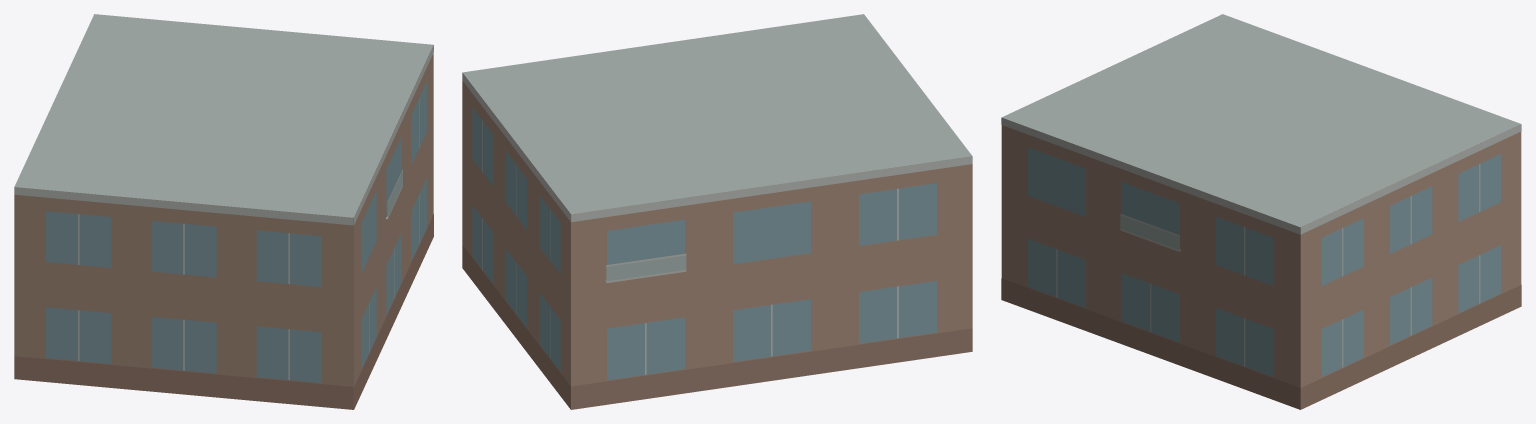
The model's file is survey-upis-33003341.glb.
3 renders of one model, left to right at view 1: azimuth 30°, elevation 25°; view 2: azimuth 150°, elevation 25°; view 3: azimuth 270°, elevation 25°, orthographic. The views are drawn at different scales.
Parts seen in each view (by area): view 1: survey-upis-33003341.tmp; view 2: survey-upis-33003341.tmp; view 3: survey-upis-33003341.tmp.
Boxes of the visible parts, x1=… form: survey-upis-33003341.tmp: x1=14, y1=14, x2=433, y2=409; survey-upis-33003341.tmp: x1=462, y1=14, x2=972, y2=409; survey-upis-33003341.tmp: x1=1001, y1=14, x2=1521, y2=409.
Bounding box in the file's own units: 15.31 × 6.1 × 15.77.
